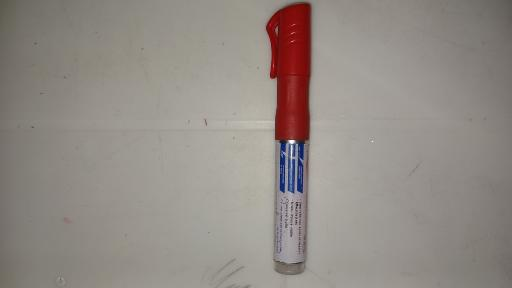Whiteboard marker: (267, 3, 313, 275)
